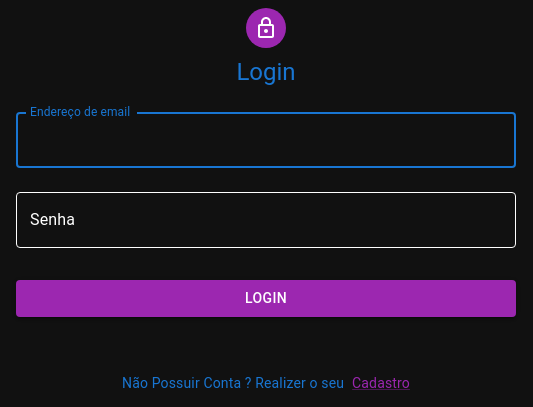
it: Login Page › should return error message, if the email field is empty
Click the button "Login".
click(266, 298)  # box [16, 280, 516, 316]
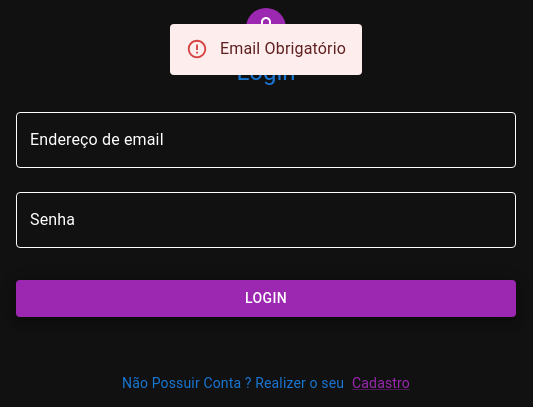
Expected: the text "Email Obrigatório" is shown, [220, 39, 346, 58]
